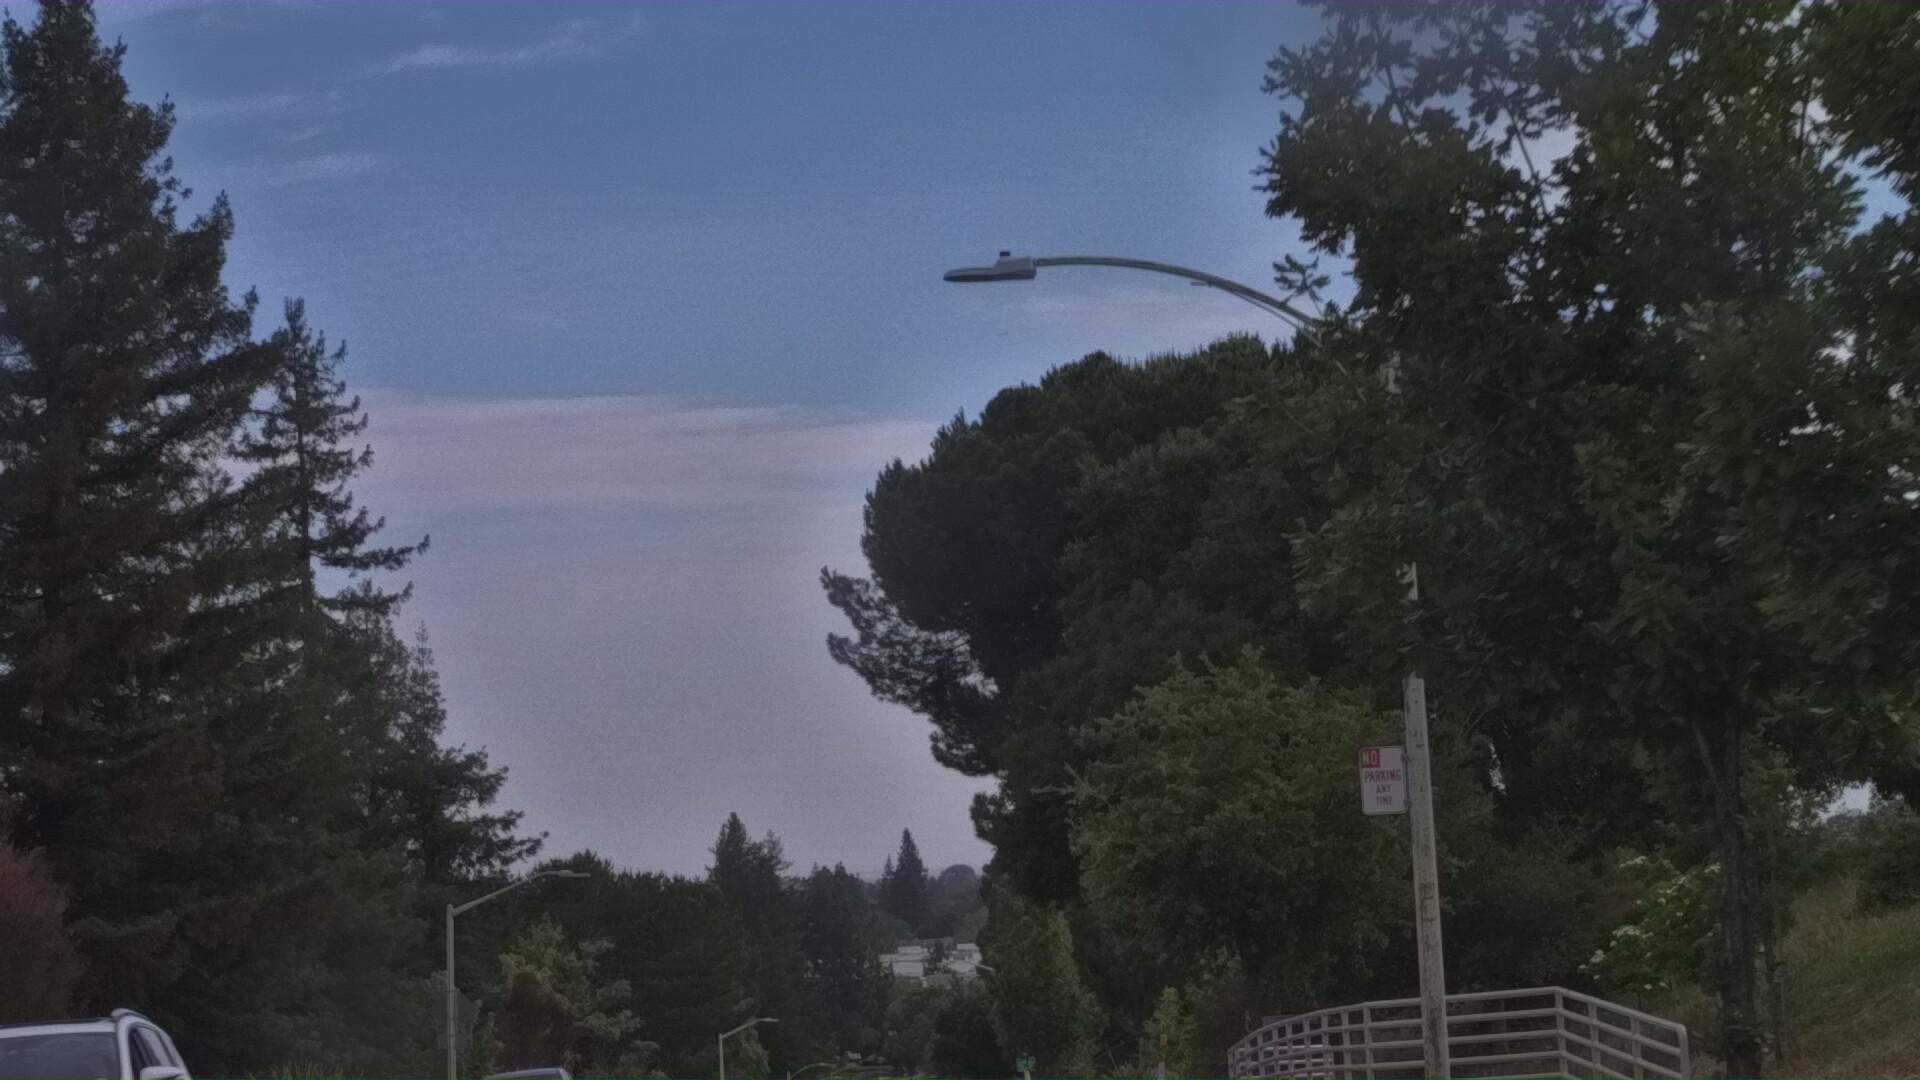car: (0, 1007, 241, 1080), (447, 1073, 597, 1080)
